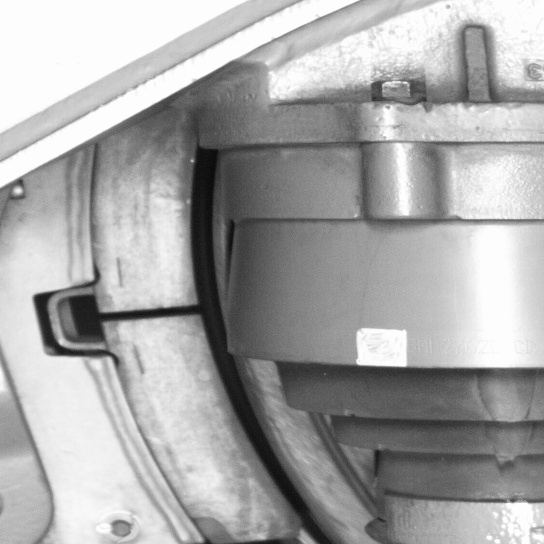KnifeSwitch: (115, 143, 346, 542)
